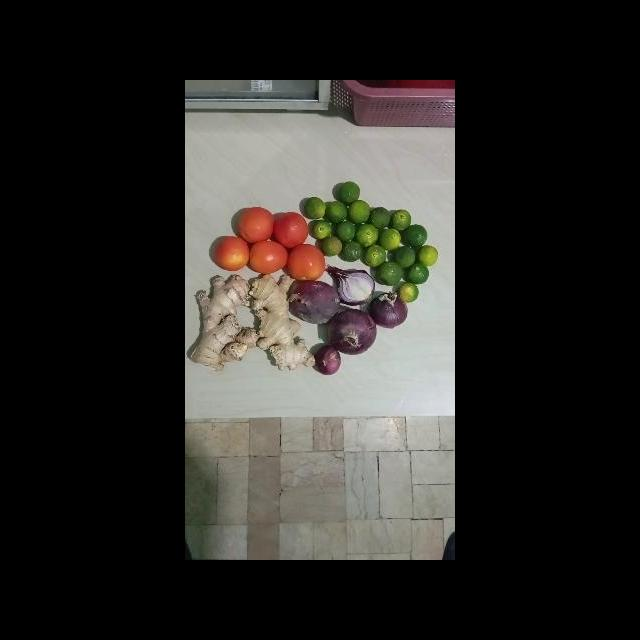ginger: (187, 270, 259, 374), (245, 272, 317, 373)
onion: (287, 276, 343, 326), (321, 261, 377, 310), (325, 306, 379, 356), (368, 290, 411, 330), (312, 342, 343, 378)
